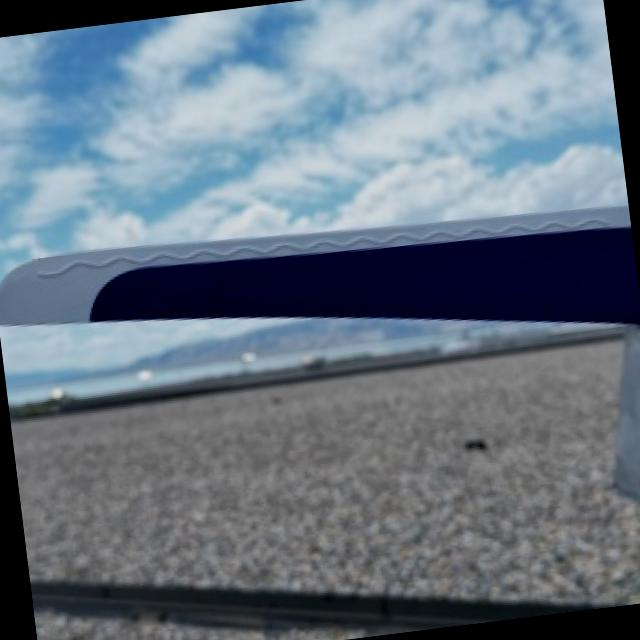healthy: (30, 578, 594, 625)
